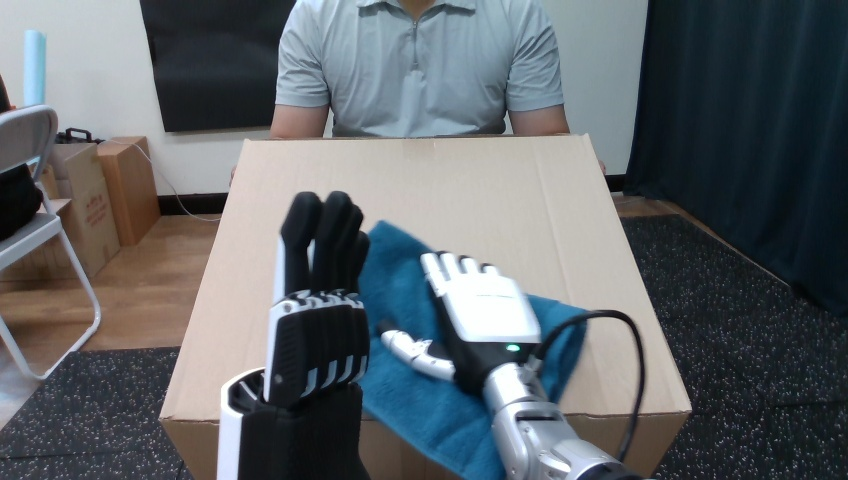left robot hand: (378, 252, 645, 479), (217, 191, 369, 479), (538, 316, 639, 460)
